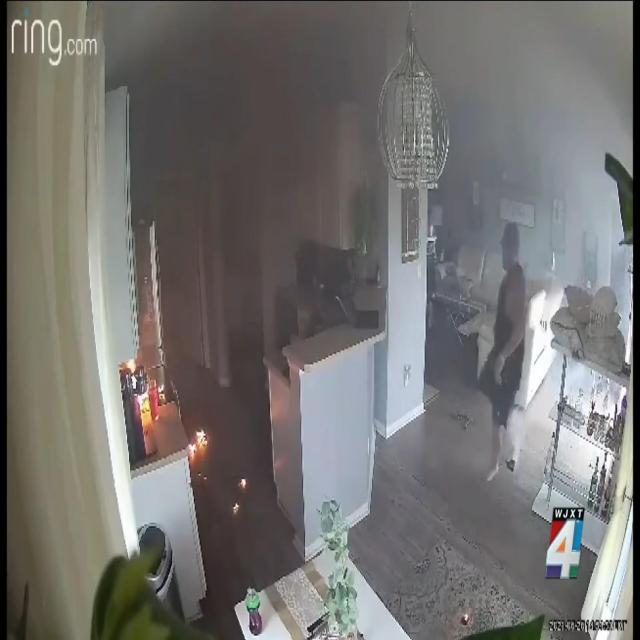fire: (188, 429, 208, 457), (239, 478, 246, 488), (233, 503, 239, 512)
